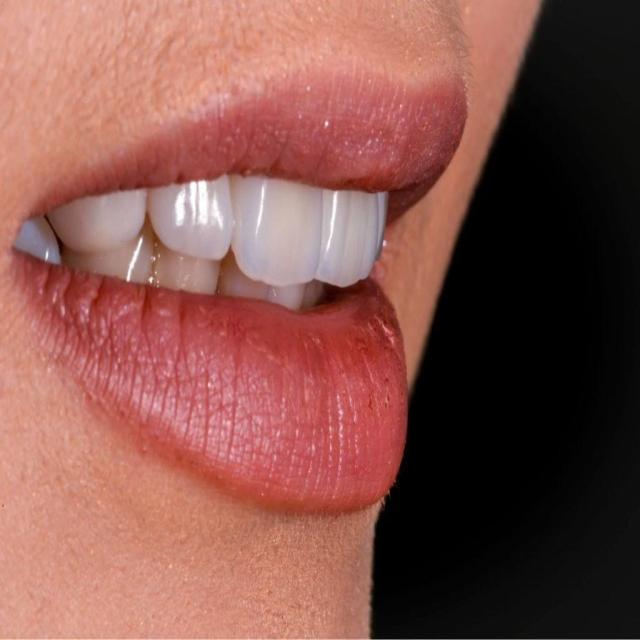tooth: (54, 172, 158, 251), (250, 177, 314, 283), (314, 192, 376, 282), (153, 180, 231, 244), (155, 242, 223, 300), (75, 240, 149, 282), (377, 192, 388, 233)
